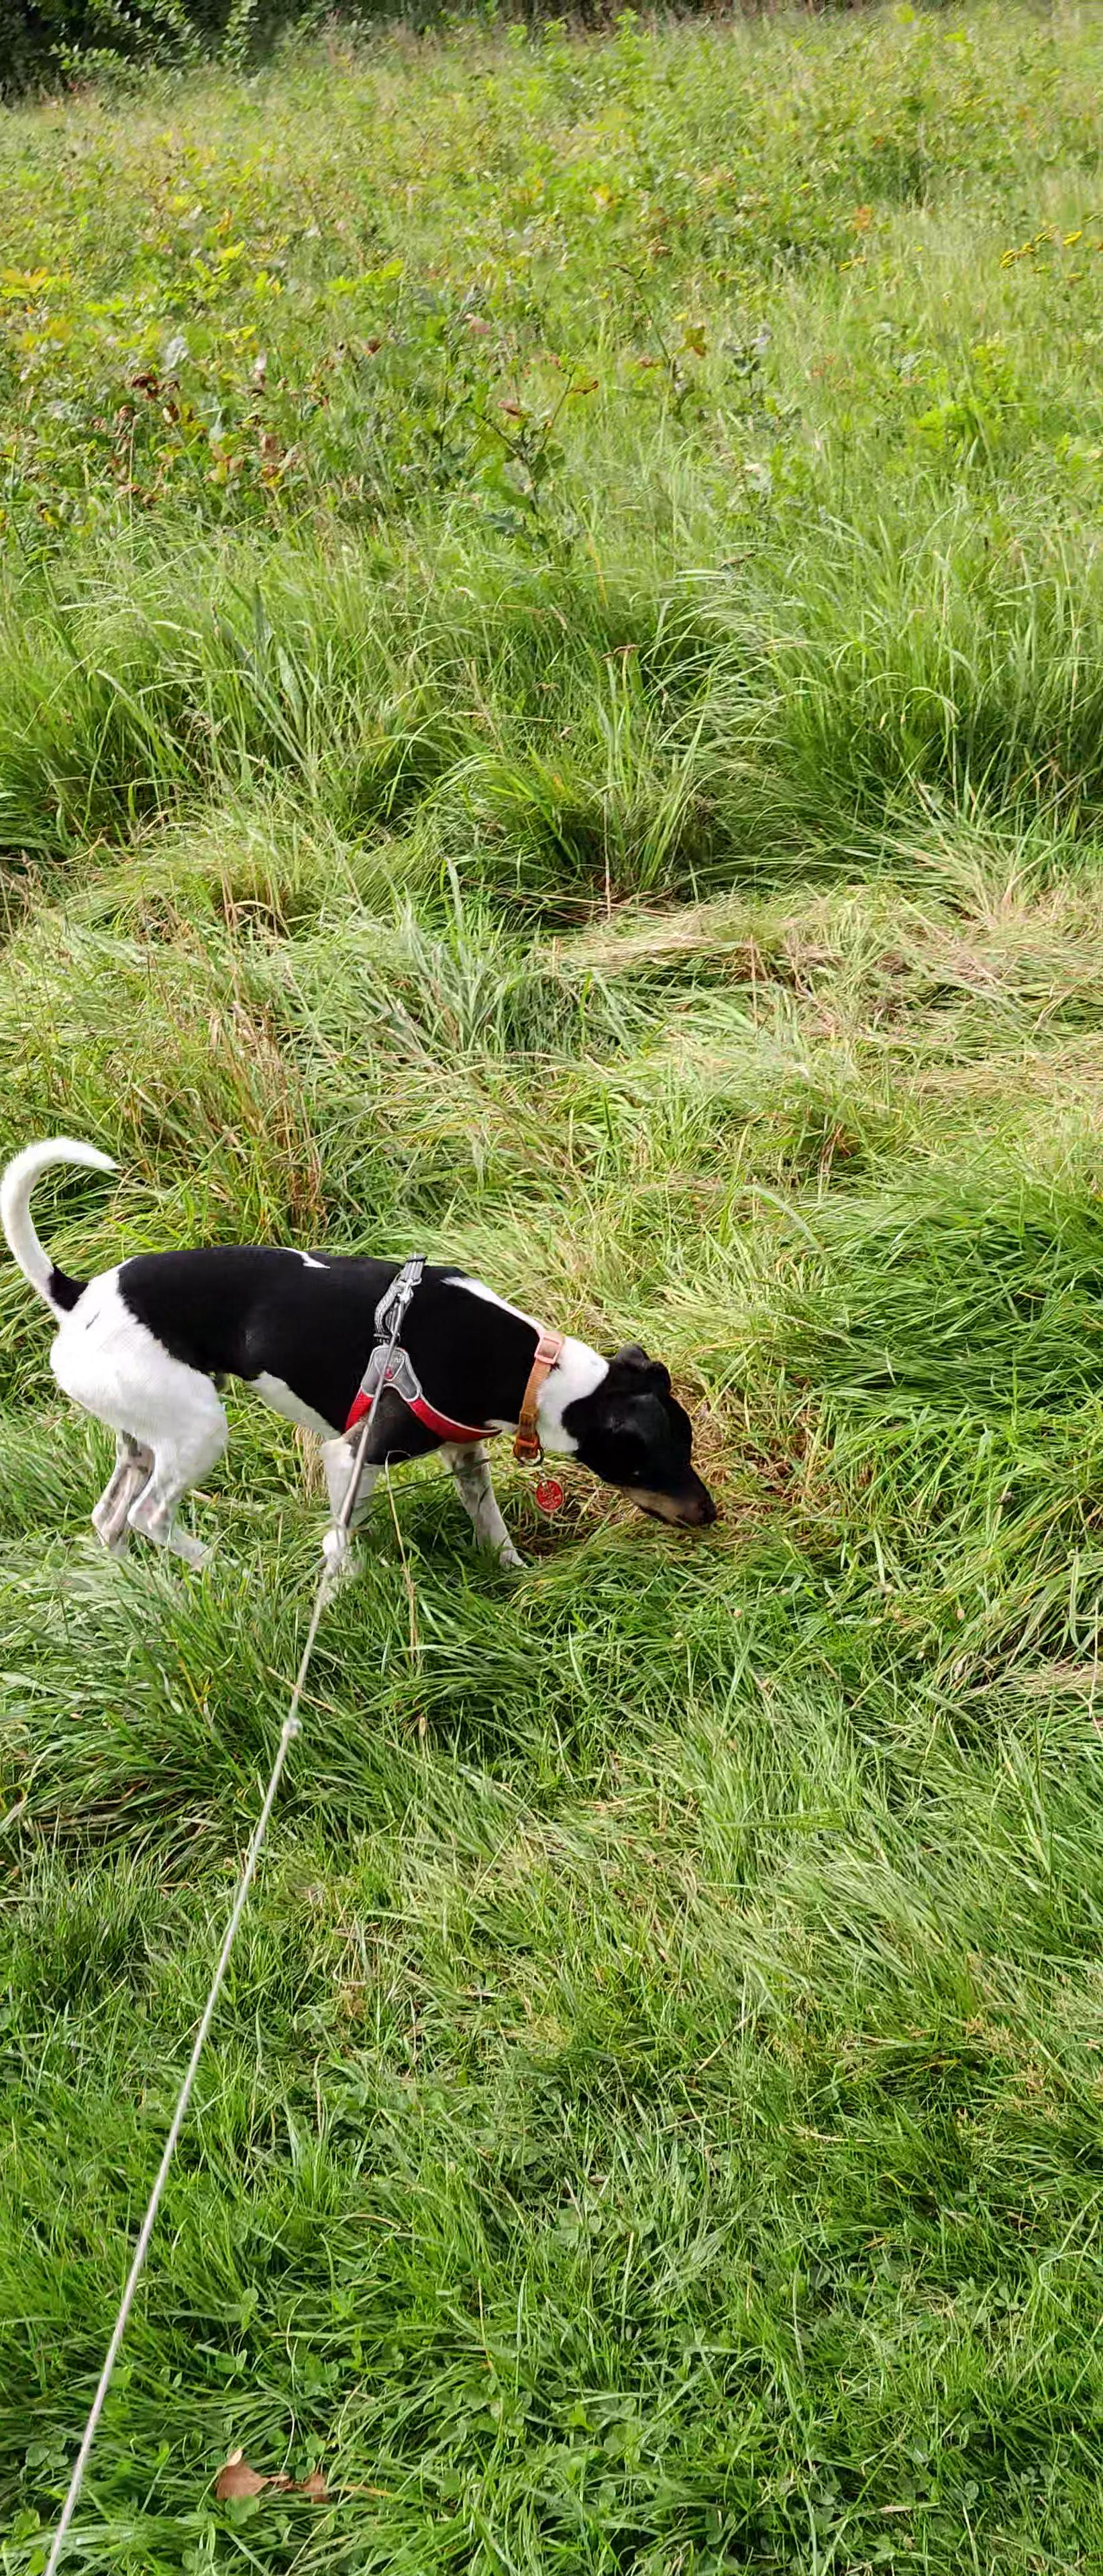Dog: (0, 1115, 741, 1590)
